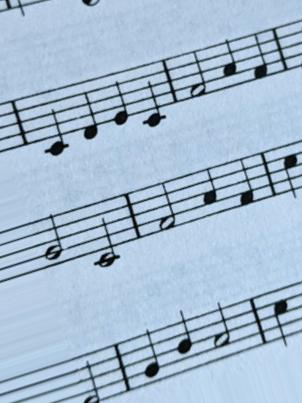note: (39, 86, 73, 162), (138, 62, 170, 132), (79, 79, 103, 145), (141, 326, 164, 392), (173, 309, 195, 375), (270, 288, 292, 353), (249, 23, 271, 83), (280, 142, 300, 203), (110, 71, 130, 131), (219, 35, 239, 94), (200, 164, 220, 223), (236, 153, 256, 211)
